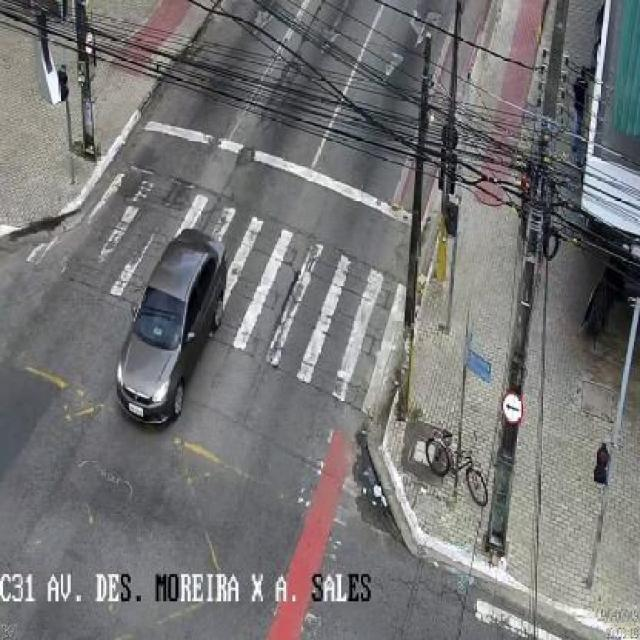Car: (112, 227, 232, 427)
Cycle: (423, 428, 492, 508)
